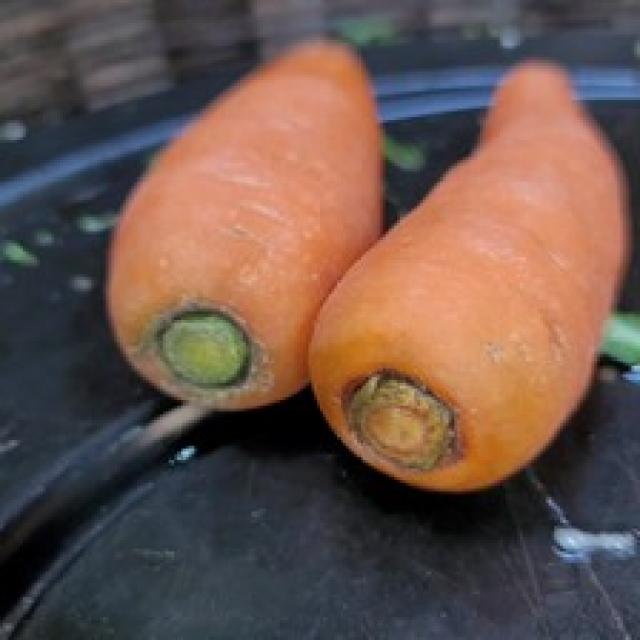carrot: (304, 50, 637, 496), (104, 41, 392, 418)
